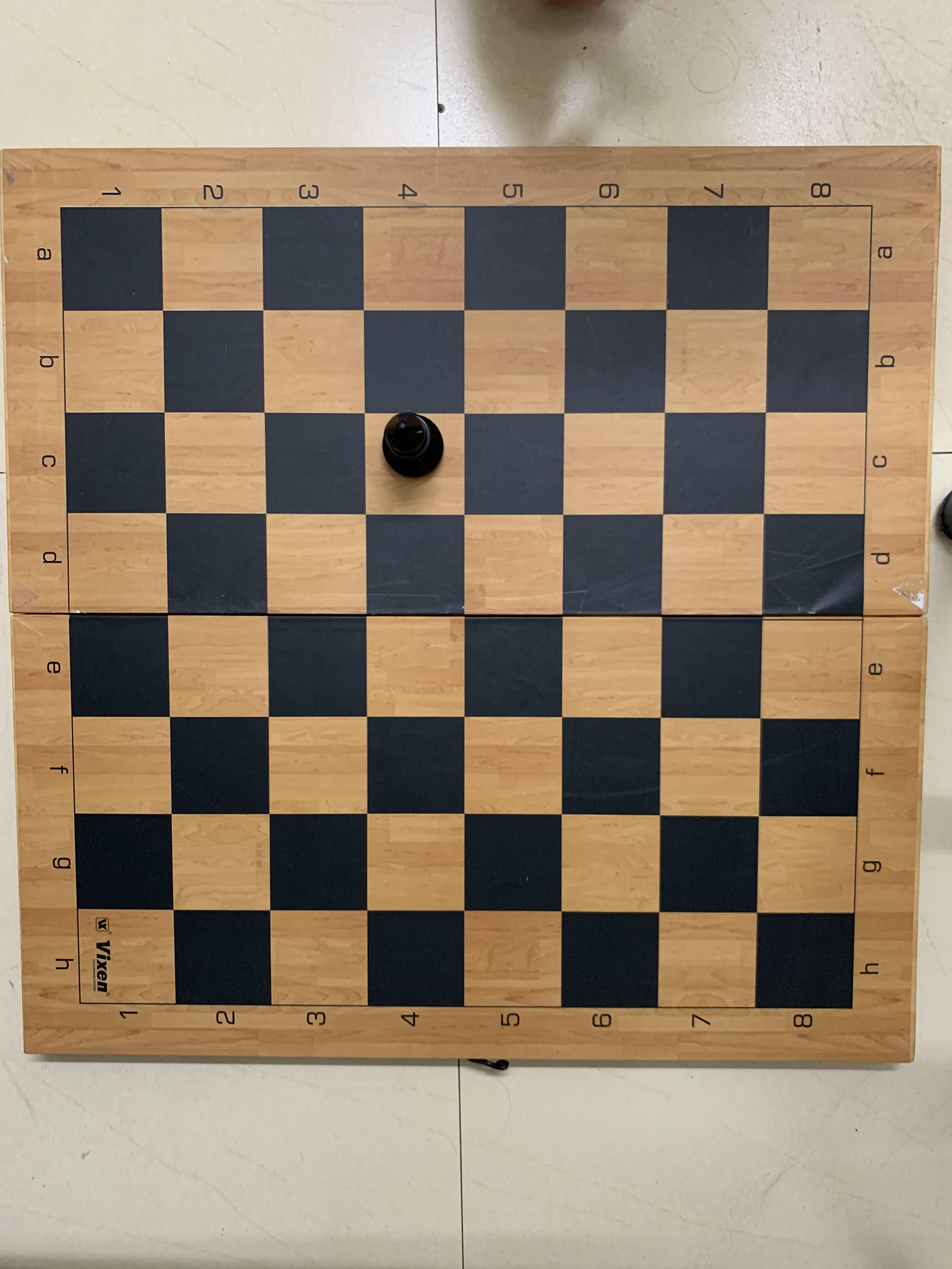black_bishop: (362, 409, 459, 504)
